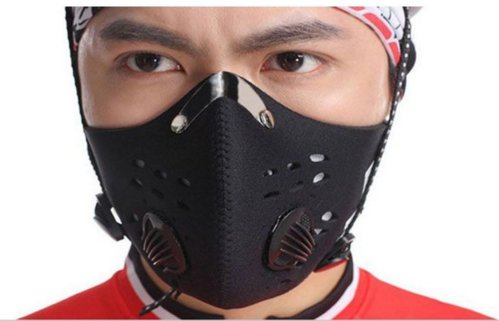mask: (8, 5, 441, 303)
